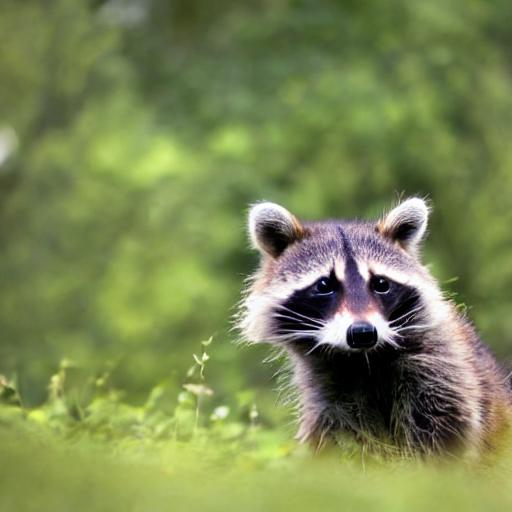raccoon: (222, 185, 512, 482)
